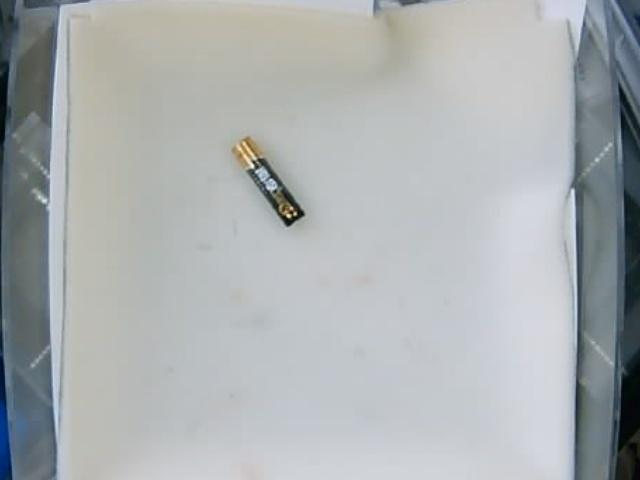Battery: (230, 137, 305, 224)
